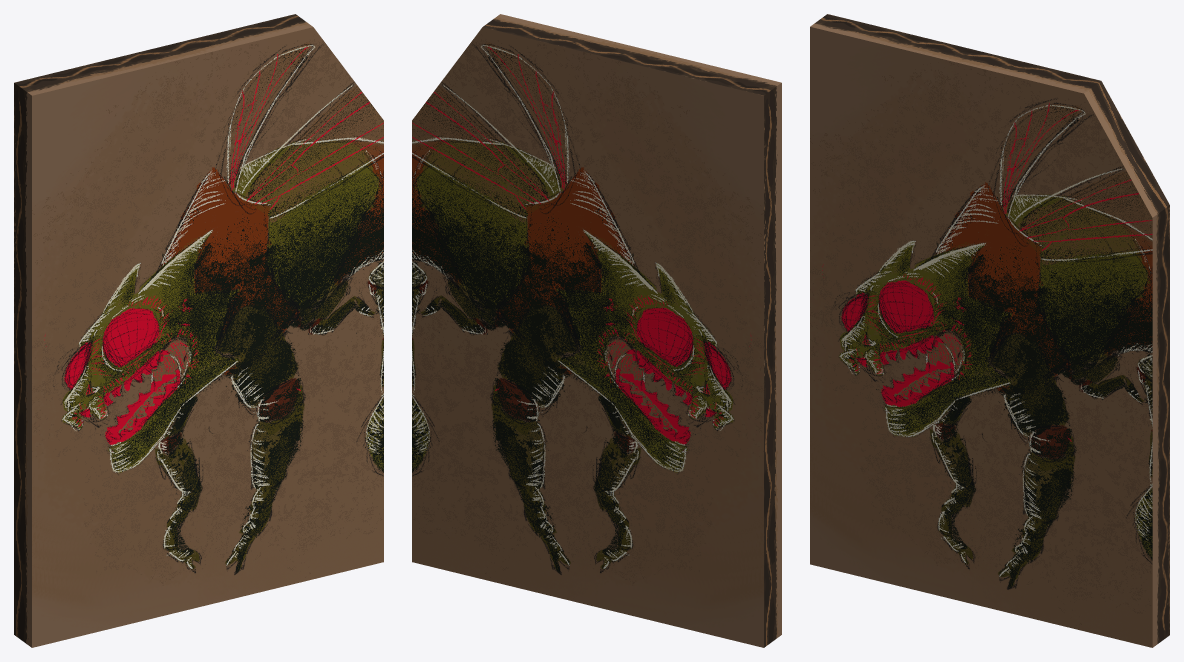
File: Seaweed1.fbx
The picture shows the model from 3 angles, left to right: view 1: azimuth 30°, elevation 25°; view 2: azimuth 150°, elevation 25°; view 3: azimuth 330°, elevation 25°; orthographic projection. The views are drawn at different scales.
Visible parts, largest first — view 1: Seaweed2; view 2: Seaweed2; view 3: Seaweed2.
Part boxes in pixels (bbox=[...]): Seaweed2: bbox=[14, 14, 383, 647]; Seaweed2: bbox=[412, 14, 781, 647]; Seaweed2: bbox=[810, 14, 1169, 647].
Bounding box in the file's own units: 2 × 3 × 0.1763.
